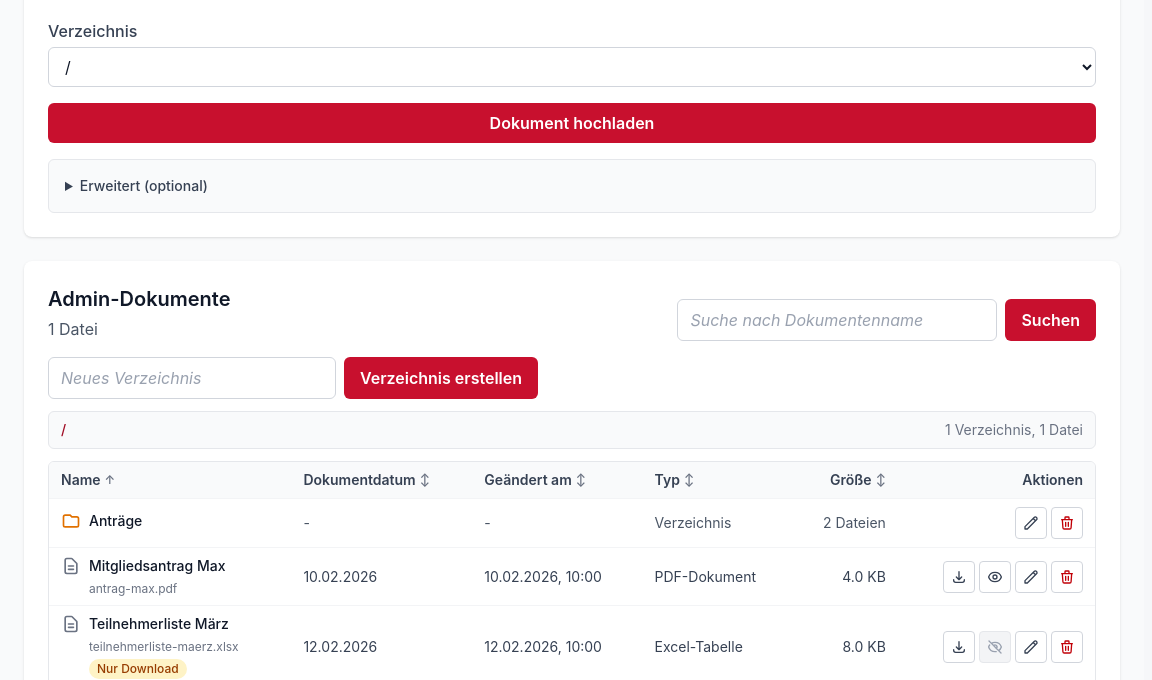
Test: AdminDocumentsPage › submits search input
The image size is (1152, 680).
(page scrolled)
Expected: the text "Mitgliedsantrag Max" is shown, [61,556,226,576]
Type "Max" into the field with placeholder "Suche nach Dokumentenname" at x=837, y=320, box [677,299,997,341]
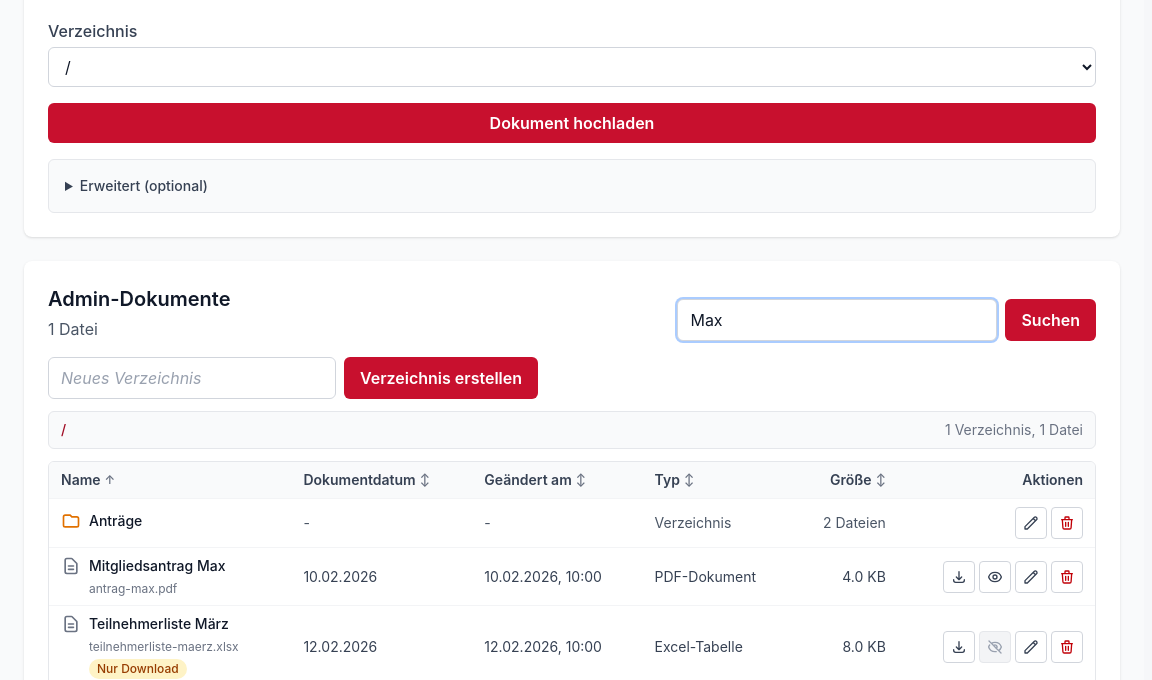
Click the button "Suchen" at x=1051, y=320, box [1005,299,1096,341]
(page scrolled)
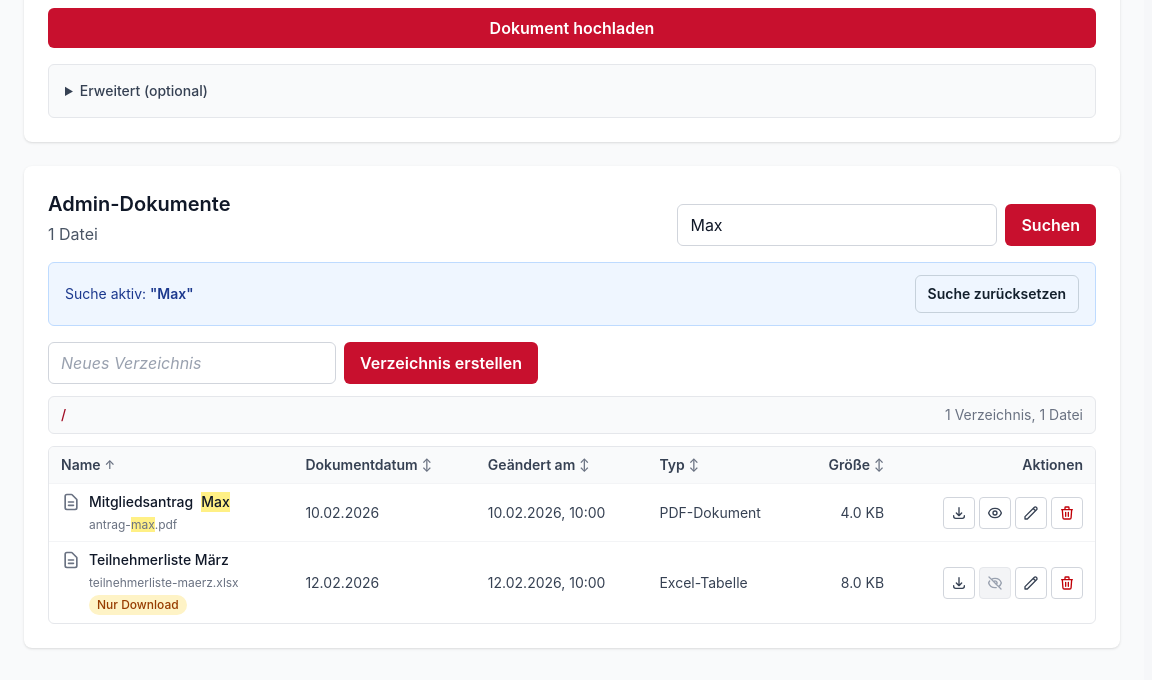
Now the text "Suche aktiv:" is shown, box [65,285,150,302]
Now the text "\"Max\"" is shown, box [150,285,194,302]
Now the text "Max" is shown, box [201,492,230,512]
